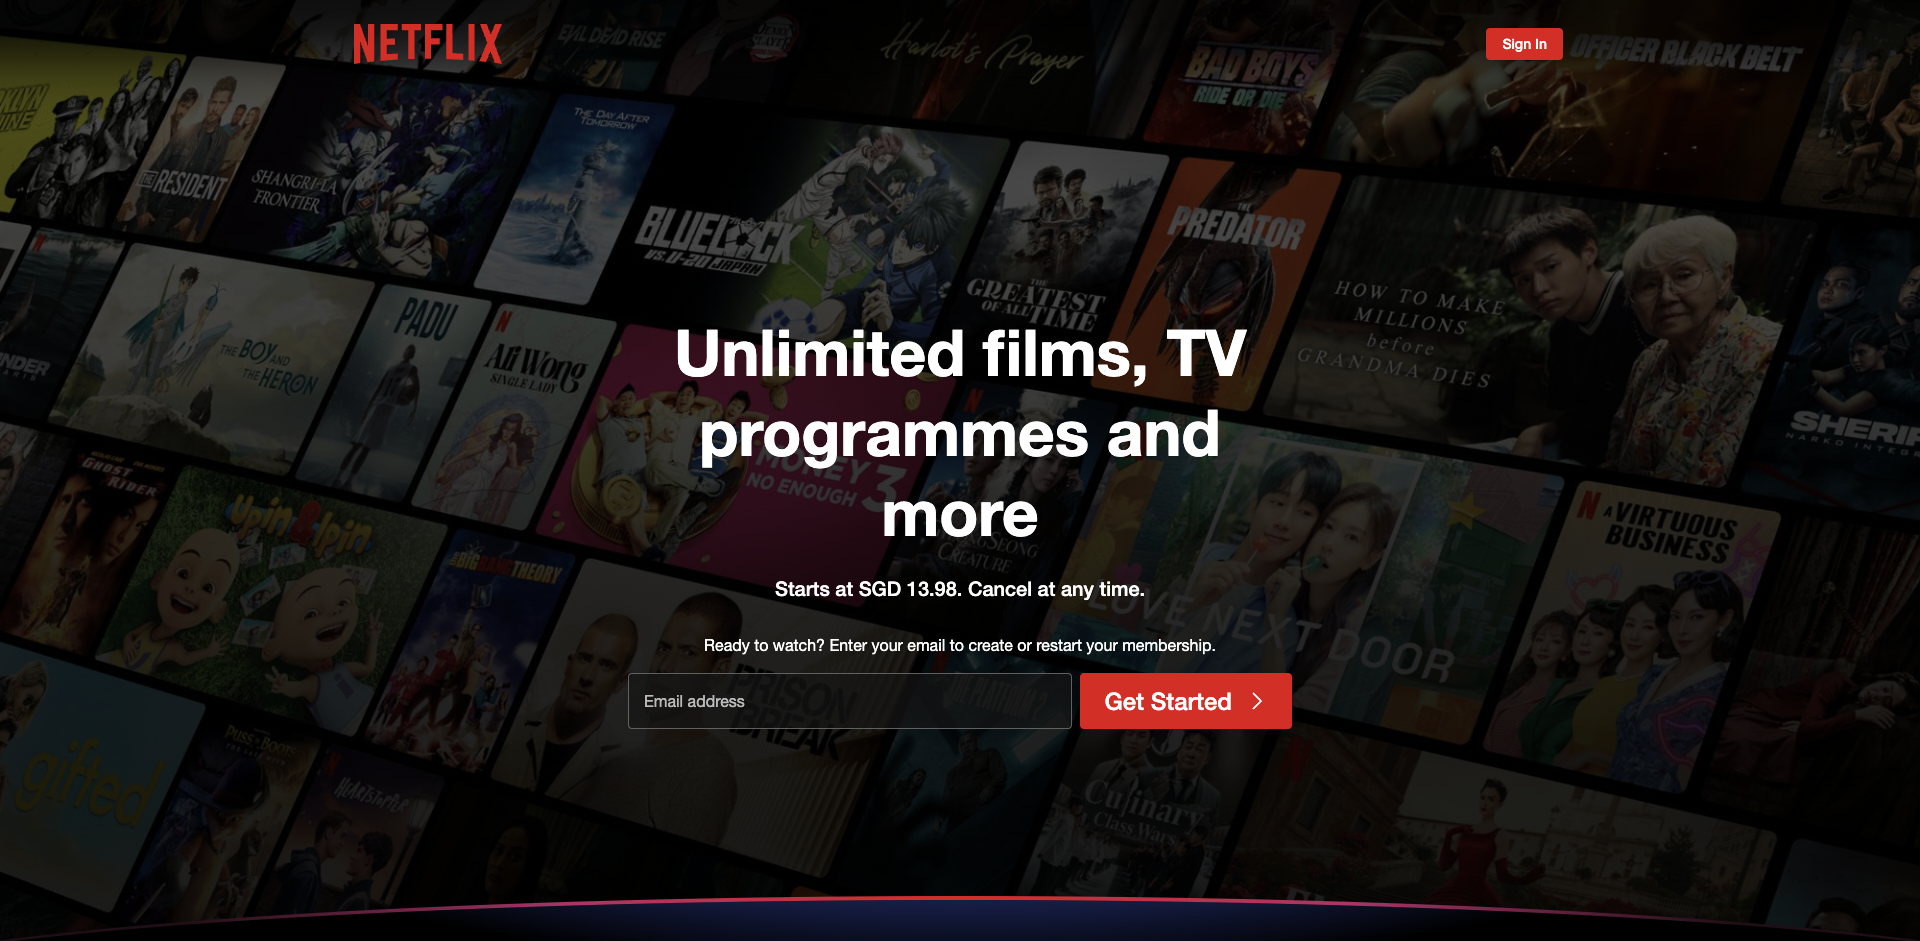button: (1080, 673, 1292, 729), (1487, 28, 1562, 60)
input: (628, 673, 1073, 729)
label: (644, 689, 1057, 713)
